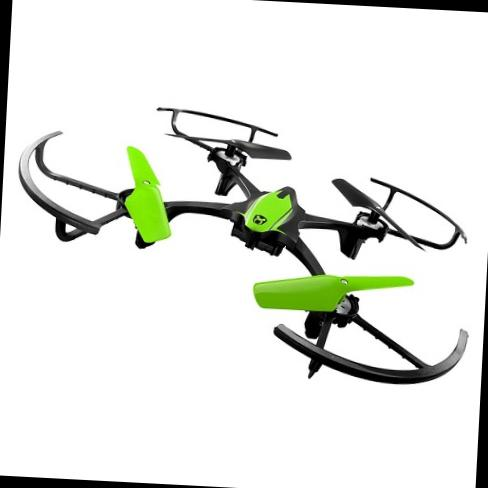drone: (1, 95, 488, 399)
